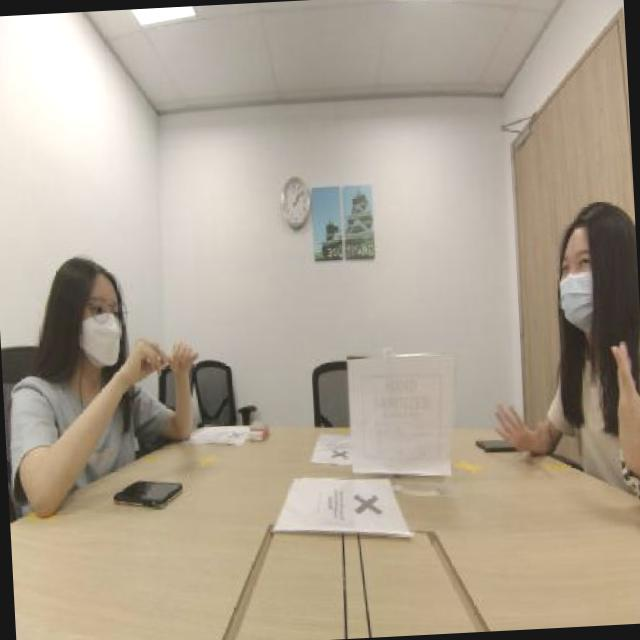Person: (0, 226, 203, 491), (524, 149, 640, 463)
